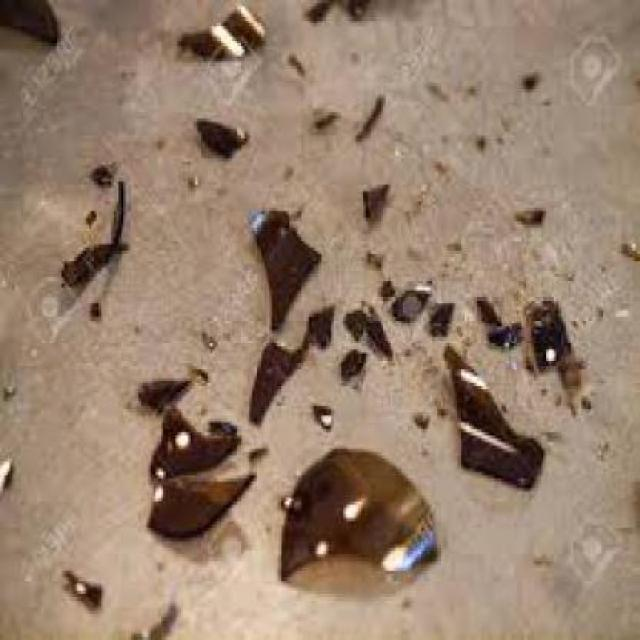kaca: (280, 443, 435, 579), (443, 340, 542, 482), (245, 202, 323, 326), (146, 475, 260, 534), (146, 406, 240, 472), (178, 3, 268, 60), (248, 337, 304, 423), (518, 288, 571, 369), (0, 0, 60, 40), (190, 115, 244, 158), (60, 237, 122, 274), (358, 297, 392, 360), (138, 372, 191, 406), (134, 597, 175, 637), (388, 280, 428, 320), (354, 92, 386, 142), (62, 564, 98, 608), (302, 297, 329, 346), (302, 0, 368, 20), (558, 351, 580, 400), (425, 294, 452, 329), (488, 314, 520, 343), (362, 175, 386, 211), (109, 182, 123, 240), (474, 291, 497, 326), (337, 343, 361, 375), (343, 303, 363, 340), (423, 77, 448, 100), (309, 403, 331, 429), (314, 103, 338, 126), (514, 208, 546, 225), (90, 158, 116, 178), (284, 54, 304, 80), (0, 448, 11, 492), (615, 242, 637, 262), (208, 412, 232, 430), (366, 242, 383, 264), (378, 274, 392, 300), (81, 208, 97, 230), (188, 363, 205, 383), (248, 438, 264, 458), (522, 66, 538, 86), (412, 410, 425, 432), (472, 129, 486, 149), (86, 297, 99, 317), (432, 155, 448, 171), (200, 331, 217, 346), (3, 377, 15, 392), (465, 80, 472, 95), (582, 392, 586, 406)
